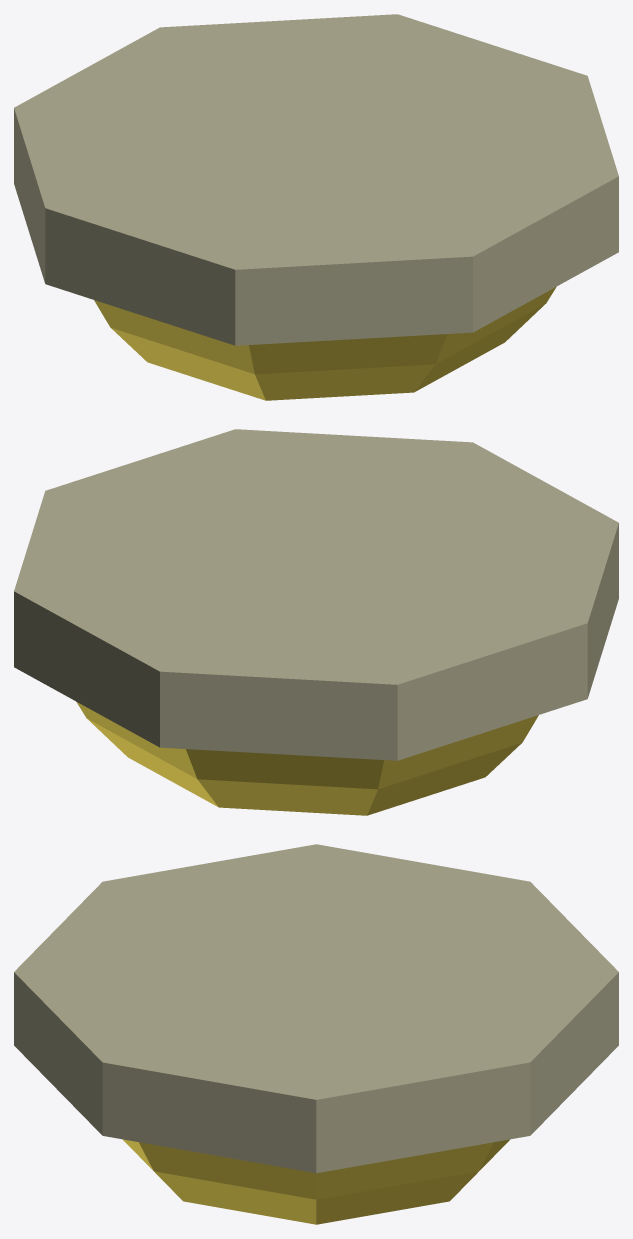
Rendered from Room Light.fbx.
3 renders of one model, top to bottom at view 1: azimuth 30°, elevation 25°; view 2: azimuth 150°, elevation 25°; view 3: azimuth 270°, elevation 25°, orthographic. The views are drawn at different scales.
Visible parts, largest first — view 1: Model; view 2: Model; view 3: Model.
Part boxes in pixels (x1,y1,x2,y2): Model: (14, 14, 618, 400); Model: (14, 429, 618, 815); Model: (14, 844, 618, 1224).
Size of the model in its own units: 0.8 by 0.3006 by 0.8.
